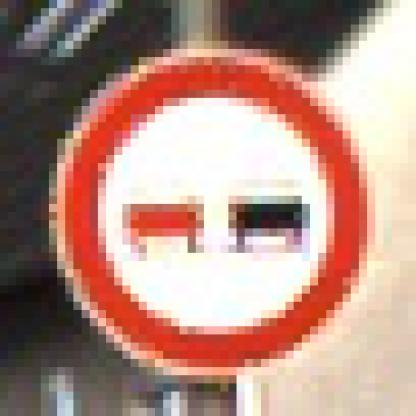No Overtaking: (50, 42, 376, 376)
